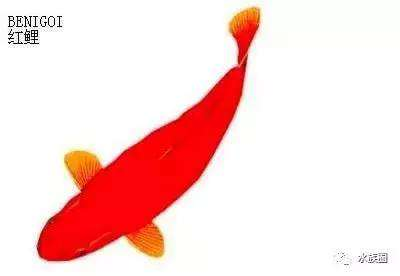red: (36, 3, 261, 261)
